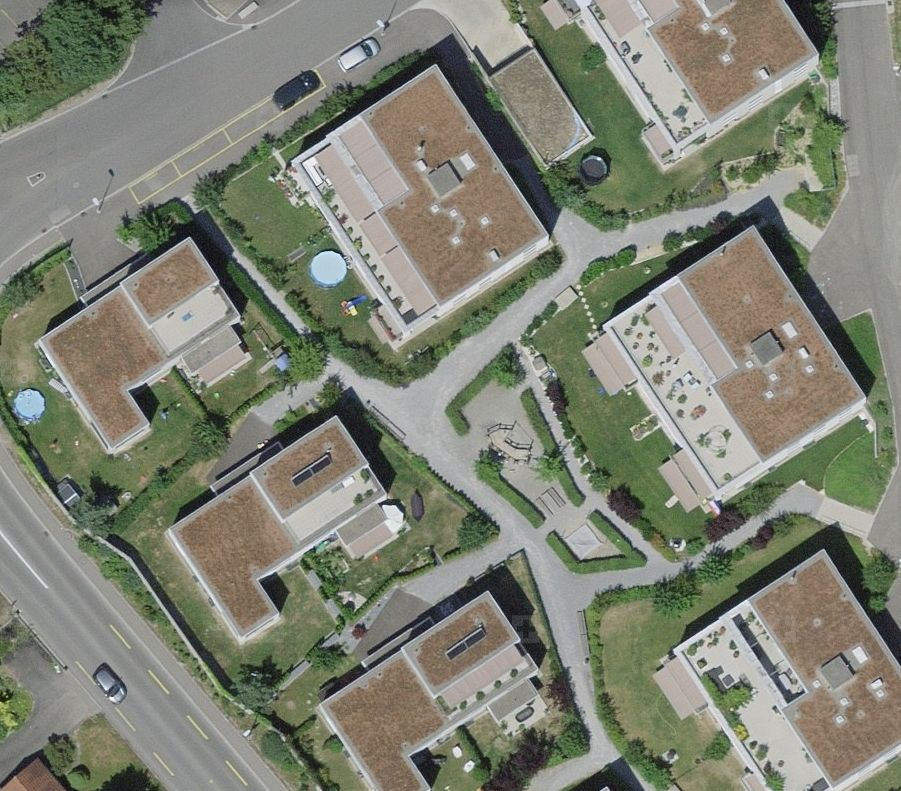solar: (431, 615, 496, 672), (280, 445, 342, 498)
